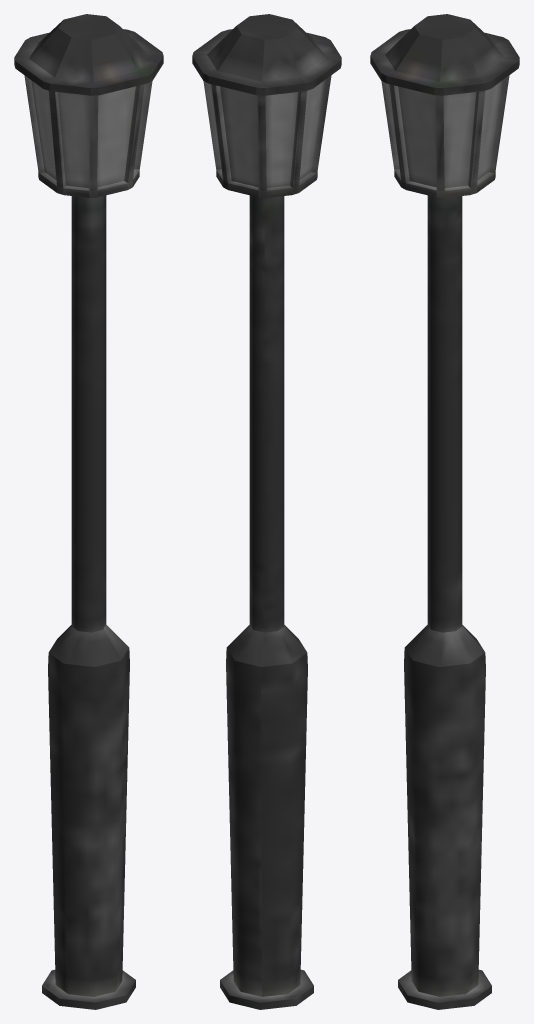
File: lamp_modern.glb
The picture shows the model from 3 angles, left to right: view 1: azimuth 30°, elevation 25°; view 2: azimuth 150°, elevation 25°; view 3: azimuth 330°, elevation 25°; orthographic projection.
Parts seen in each view (by area): view 1: Lamp_Post_Modern; view 2: Lamp_Post_Modern; view 3: Lamp_Post_Modern.
Boxes of the visible parts, bbox=[...] form: Lamp_Post_Modern: bbox=[14, 14, 163, 1009]; Lamp_Post_Modern: bbox=[192, 14, 341, 1009]; Lamp_Post_Modern: bbox=[370, 14, 519, 1009].
Bounding box in the file's own units: 0.4715 × 3.63 × 0.4715.
Materials: 1 (1 with a texture image).
